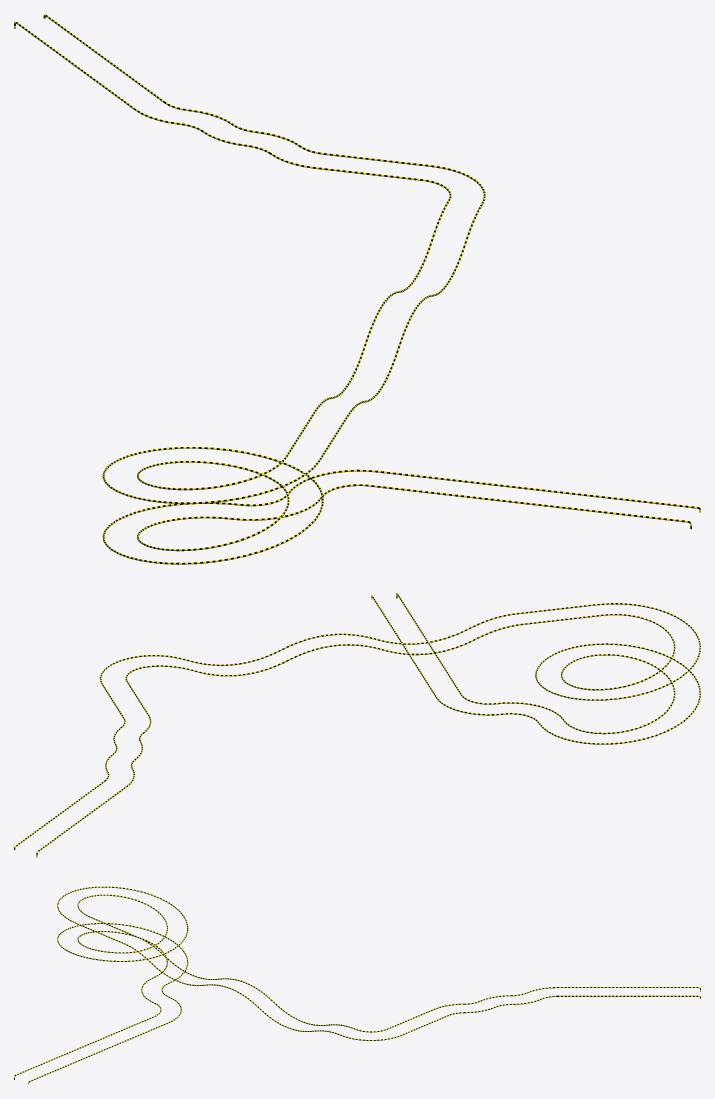
File: rod_28.FBX
3 views of the same model, one above another, from view 1: azimuth 30°, elevation 25°; view 2: azimuth 150°, elevation 25°; view 3: azimuth 270°, elevation 25° (orthographic). The views are drawn at different scales.
Parts seen in each view (by area): view 1: rod_28; view 2: rod_28; view 3: rod_28.
Boxes of the visible parts, x1,y1,x2,y2 form: rod_28: [14, 14, 700, 564]; rod_28: [14, 593, 700, 857]; rod_28: [14, 886, 700, 1084].
Bounding box in the file's own units: 7081 × 1297 × 12504.
